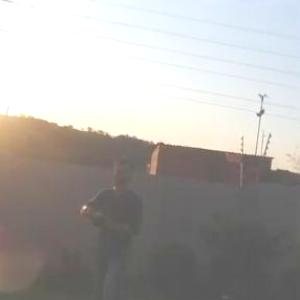follow: (72, 151, 158, 299)
